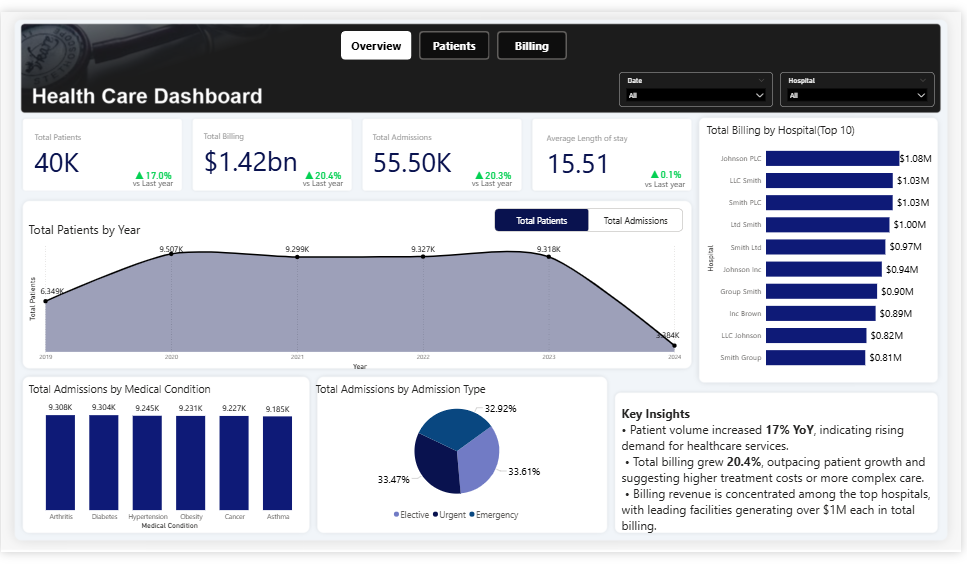

This screenshot's page, from the dashboard's own definition file:
{"tool":"powerbi","page":{"name":"Overview","canvas":[1920,1080],"ordinal":0},"visuals":[{"type":"cardVisual","fields":{"Data":["Dax.Total Patients"]},"box":[50,221.7,308.3,136.7],"z":0},{"type":"lineChart","fields":{"Y":["Dax.Total Patients"],"Category":["Date.Date.Variation.Date Hierarchy.Year","Date.Date.Variation.Date Hierarchy.Quarter","Date.Date.Variation.Date Hierarchy.Month","Date.Date.Variation.Date Hierarchy.Day"]},"box":[50,417.5,1315,303.8],"z":1000},{"type":"card","fields":{"Values":["Dax.PY% patients"]},"box":[260.6,310,87.5,34.4],"z":2000},{"type":"cardVisual","fields":{"Data":["Dax.Total Revenue"]},"box":[387.3,220,309.1,138.2],"z":3000},{"type":"card","fields":{"Values":["Dax.PY% revenue"]},"box":[599.4,308.1,86.9,36.2],"z":4000},{"type":"cardVisual","fields":{"Data":["Dax.Total Record"]},"box":[726.7,221.7,318.3,136.7],"z":5000},{"type":"card","fields":{"Values":["Dax.PY% record"]},"box":[935,306.2,95,39.4],"z":6000},{"type":"cardVisual","fields":{"Data":["Dax.Average Length of stay"]},"box":[1073.1,223.1,308.1,138.1],"z":7000},{"type":"card","fields":{"Values":["Dax.PY% Length of stay"]},"box":[1282.5,304.4,88.8,43.1],"z":8000},{"type":"clusteredColumnChart","fields":{"Category":["healthcare_db healthcare_new.Medical Condition"],"Y":["Dax.Total Record"]},"box":[50,738.9,574.4,302.2],"z":9000},{"type":"clusteredBarChart","title":"Total Billing by Hospital(Top 10)","fields":{"Category":["healthcare_db healthcare_new.Hospital"],"Y":["Dax.Total Revenue"]},"box":[1406.7,220,461.1,510],"z":10000},{"type":"slicer","fields":{"Values":["healthcare_db healthcare_new.Hospital"]},"box":[1558.8,120,308.8,70],"z":11000},{"type":"pieChart","fields":{"Category":["healthcare_db healthcare_new.Admission Type"],"Y":["Dax.Total Admissions"]},"box":[624.3,738.6,575.7,287.1],"z":12000},{"type":"advancedSlicerVisual","fields":{"Values":["Parameter.Parameter"]},"box":[982.2,388.9,388.9,56.7],"z":13000},{"type":"actionButton","box":[679,37.2,141.2,57.5],"z":14000},{"type":"actionButton","box":[835.2,37.2,141.2,57.5],"z":15000},{"type":"actionButton","box":[992.3,37.7,140,57.5],"z":16000},{"type":"slicer","fields":{"Values":["Date.Date.Variation.Date Hierarchy.Year","Date.Date.Variation.Date Hierarchy.Quarter","Date.Date.Variation.Date Hierarchy.Month","Date.Date.Variation.Date Hierarchy.Day"]},"box":[1236,120,308,70],"z":17000},{"type":"textbox","box":[1273.8,327.5,107.5,31.9],"z":18000},{"type":"textbox","box":[928.8,326.2,107.5,31.9],"z":19000},{"type":"textbox","box":[589.4,326.2,107.5,31.9],"z":20000},{"type":"textbox","box":[250.6,326.2,107.5,31.9],"z":21000},{"type":"textbox","box":[1235,765,631.7,298.3],"z":22000}]}

Visuals, with their boxes on the page's 1920x1080 design canvas (x1, y1, x2, y2). These are canvas units, not pixel positions in the 967x571 screenshot, which may show the page scaled, cropped or inside an application window:
cardVisual - Dax.Total Patients: locate(50, 222, 358, 358)
lineChart - Dax.Total Patients x Date.Date.Variation.Date Hierarchy.Year: locate(50, 418, 1365, 721)
card - Dax.PY% patients: locate(261, 310, 348, 344)
cardVisual - Dax.Total Revenue: locate(387, 220, 696, 358)
card - Dax.PY% revenue: locate(599, 308, 686, 344)
cardVisual - Dax.Total Record: locate(727, 222, 1045, 358)
card - Dax.PY% record: locate(935, 306, 1030, 346)
cardVisual - Dax.Average Length of stay: locate(1073, 223, 1381, 361)
card - Dax.PY% Length of stay: locate(1282, 304, 1371, 348)
clusteredColumnChart - healthcare_db healthcare_new.Medical Condition x Dax.Total Record: locate(50, 739, 624, 1041)
"Total Billing by Hospital(Top 10)" clusteredBarChart: locate(1407, 220, 1868, 730)
slicer - healthcare_db healthcare_new.Hospital: locate(1559, 120, 1868, 190)
pieChart - healthcare_db healthcare_new.Admission Type x Dax.Total Admissions: locate(624, 739, 1200, 1026)
advancedSlicerVisual - Parameter.Parameter: locate(982, 389, 1371, 446)
actionButton: locate(679, 37, 820, 95)
actionButton: locate(835, 37, 976, 95)
actionButton: locate(992, 38, 1132, 95)
slicer - Date.Date.Variation.Date Hierarchy.Year x Date.Date.Variation.Date Hierarchy.Quarter: locate(1236, 120, 1544, 190)
textbox: locate(1274, 328, 1381, 359)
textbox: locate(929, 326, 1036, 358)
textbox: locate(589, 326, 697, 358)
textbox: locate(251, 326, 358, 358)
textbox: locate(1235, 765, 1867, 1063)
